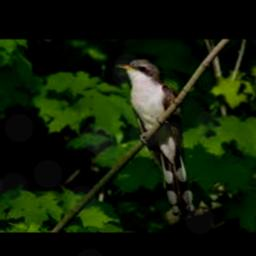Cuckoo: (116, 58, 196, 216)
